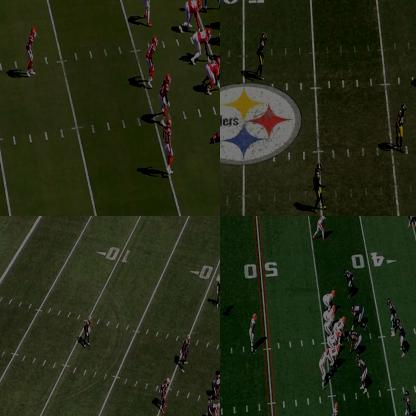CENTER: (337, 318, 347, 346)
DB: (314, 162, 326, 212), (258, 32, 268, 81), (27, 28, 37, 76), (142, 0, 155, 26), (83, 315, 91, 346), (405, 388, 413, 415), (216, 275, 219, 308), (408, 216, 415, 227)
LB: (158, 79, 170, 126), (163, 120, 173, 176), (146, 37, 156, 88), (399, 103, 408, 150), (178, 336, 190, 370), (397, 322, 407, 358), (389, 298, 397, 332), (160, 382, 168, 413)
QB: (324, 315, 334, 336)
SKILL: (313, 216, 327, 241), (250, 312, 257, 350), (320, 349, 327, 384), (332, 402, 340, 415)
